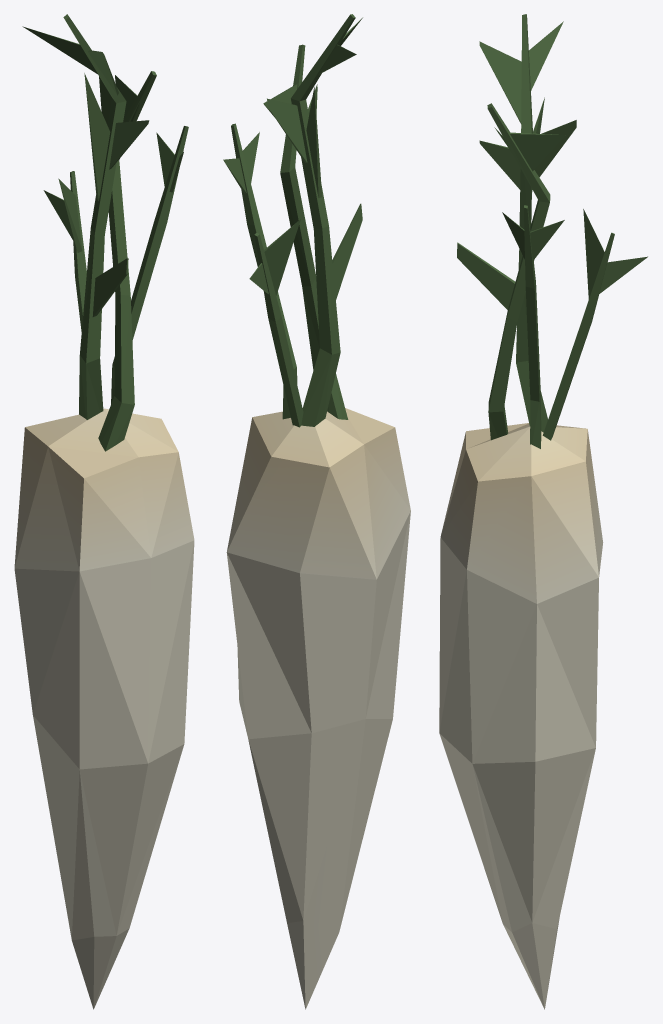
File: Carrot Village.fbx
3 renders of one model, left to right at view 1: azimuth 30°, elevation 25°; view 2: azimuth 150°, elevation 25°; view 3: azimuth 270°, elevation 25°, orthographic. The views are drawn at different scales.
Parts seen in each view (by area): view 1: Carrot; view 2: Carrot; view 3: Carrot.
Boxes of the visible parts, <box> form: Carrot: <box>14,14,194,1009</box>; Carrot: <box>223,14,410,1009</box>; Carrot: <box>439,14,647,1009</box>.
Bounding box in the file's own units: 0.0603 × 0.3635 × 0.0704.
